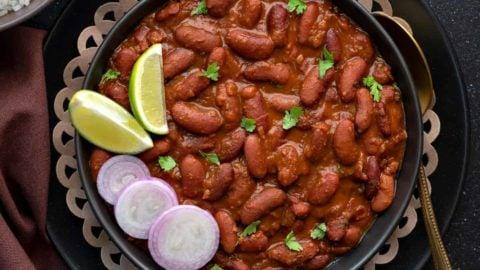rajma: (181, 0, 408, 256)
